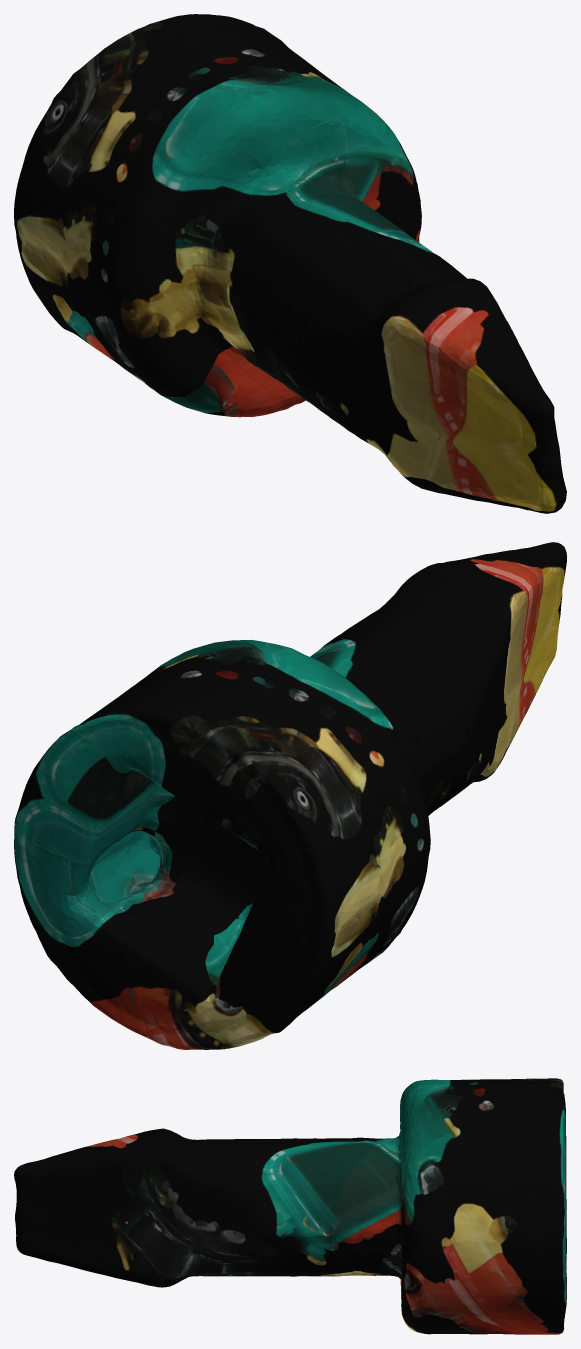
3 renders of one model, top to bottom at view 1: azimuth 30°, elevation 25°; view 2: azimuth 150°, elevation 25°; view 3: azimuth 270°, elevation 25°, orthographic. The views are drawn at different scales.
Parts seen in each view (by area): view 1: node; view 2: node; view 3: node.
Part boxes in pixels (x1,y1,x2,y2): node: [14, 14, 566, 513]; node: [14, 542, 566, 1049]; node: [14, 1078, 566, 1334].
Size of the model in its own units: 0.0308 by 0.0308 by 0.0662.
